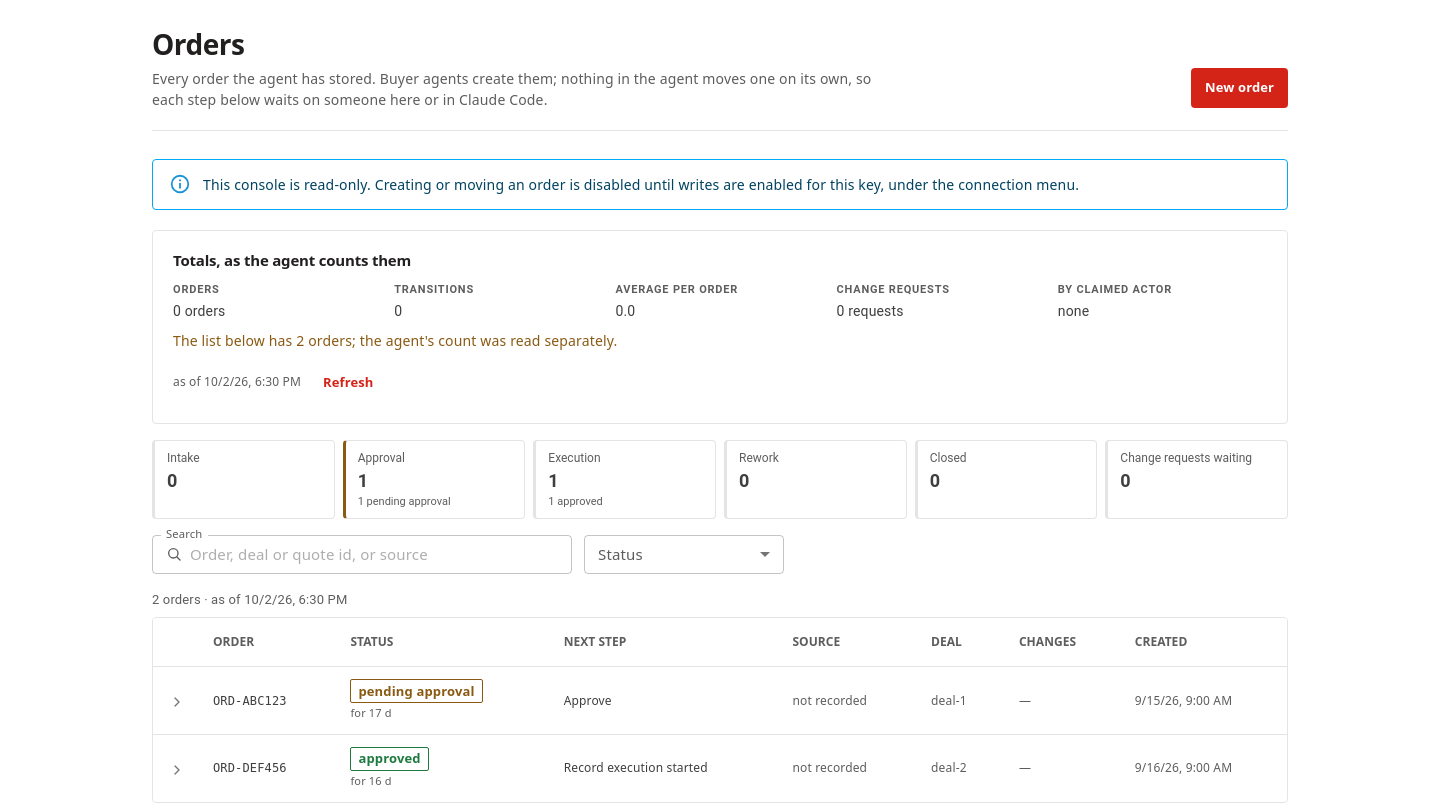
Test case: the orders screen › counts orders by stage, and filters by a stage when its chip is pressed
Expected: the element named "Orders by stage" is shown, x1=152 y1=440 x2=1288 y2=519
Click the button "Approval 1 1 pending approval" at (434, 479), box x1=343 y1=440 x2=525 y2=519
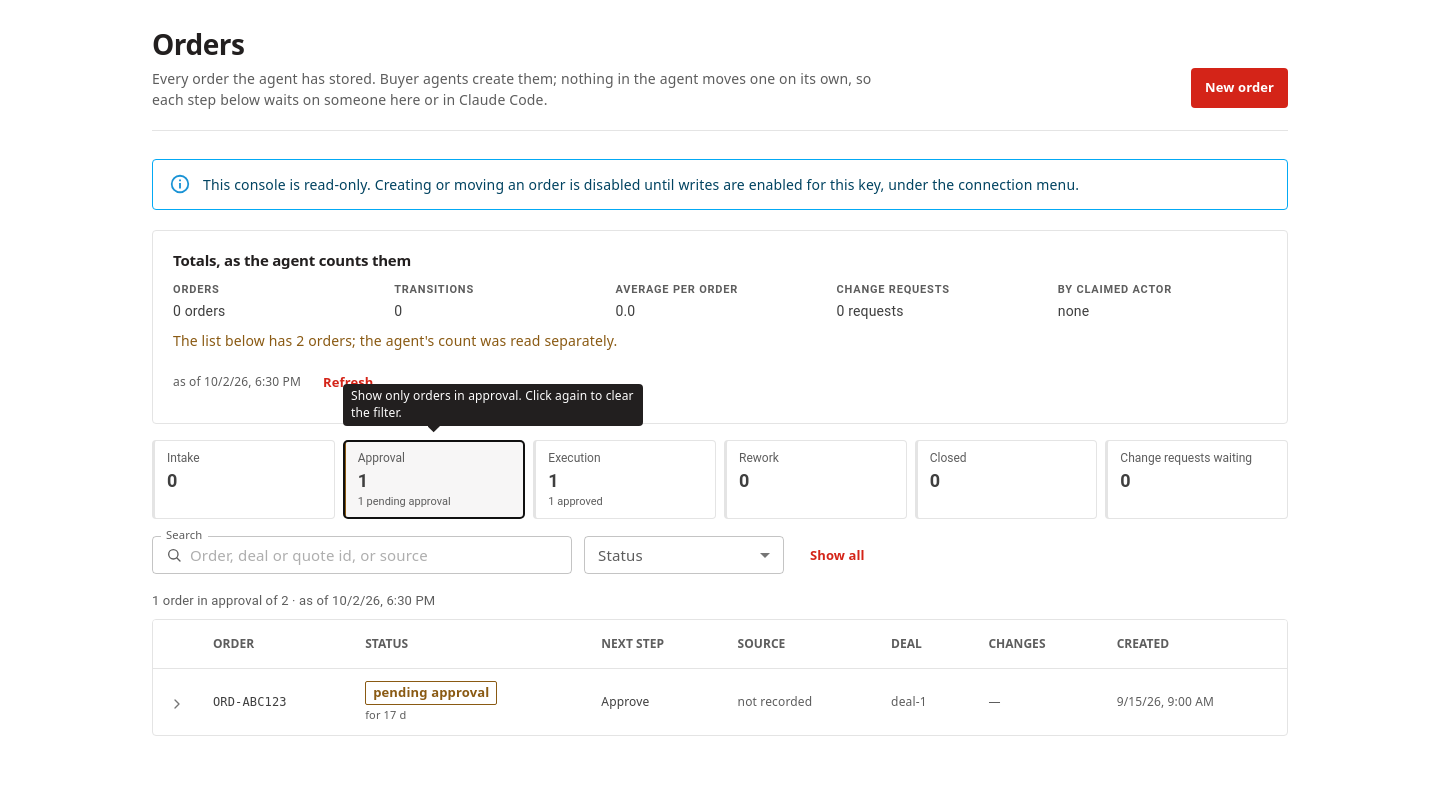
Expected: the text "ORD-ABC123" is shown, x1=197 y1=668 x2=349 y2=735
Result: the text "ORD-DEF456" is gone
